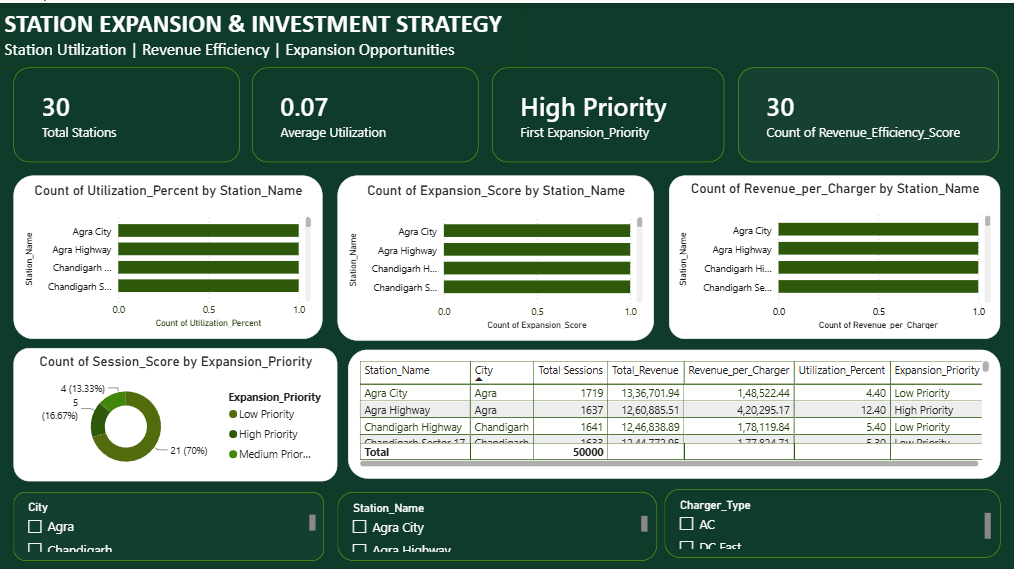

The dashboard page shown, as its layout file describes it:
{"tool":"powerbi","page":{"name":"Expansion Strategy","canvas":[1280,720],"ordinal":4},"visuals":[{"type":"textbox","box":[0,0,661.4,81.3],"z":0},{"type":"cardVisual","fields":{"Data":["ev_charging_sessions_engineered.Total Stations"]},"box":[17,81.3,285.4,119.1],"z":1000},{"type":"cardVisual","fields":{"Data":["CountNonNull(station_performance_metrics.Revenue_Efficiency_Score)"]},"box":[929.8,81.3,328.8,119.1],"z":2000},{"type":"cardVisual","fields":{"Data":["Min(station_performance_metrics.Expansion_Priority)"]},"box":[619.8,81.3,292.9,119.1],"z":3000},{"type":"cardVisual","fields":{"Data":["Calendar.Average Utilization"]},"box":[317.5,81.3,285.4,119.1],"z":4000},{"type":"slicer","fields":{"Values":["ev_charging_sessions_engineered.City"]},"box":[17,616.1,391.2,86.9],"z":5000},{"type":"slicer","fields":{"Values":["ev_charging_sessions_engineered.Station_Name"]},"box":[425.2,616.1,402.5,86.9],"z":6000},{"type":"slicer","fields":{"Values":["ev_charging_sessions_engineered.Charger_Type"]},"box":[837.2,612.3,423.3,86.9],"z":7000},{"type":"clusteredBarChart","fields":{"Category":["station_performance_metrics.Station_Name"],"Y":["CountNonNull(station_performance_metrics.Expansion_Score)"]},"box":[425.2,217.3,398.7,207.9],"z":8000},{"type":"clusteredBarChart","fields":{"Category":["station_performance_metrics.Station_Name"],"Y":["CountNonNull(station_performance_metrics.Utilization_Percent)"]},"box":[17,217.3,389.3,206],"z":9000},{"type":"clusteredBarChart","fields":{"Category":["station_performance_metrics.Station_Name"],"Y":["CountNonNull(station_performance_metrics.Revenue_per_Charger)"]},"box":[842.8,217.3,417.6,206],"z":10000},{"type":"donutChart","fields":{"Category":["station_performance_metrics.Expansion_Priority"],"Y":["CountNonNull(station_performance_metrics.Session_Score)"]},"box":[17,434.6,408.2,168.2],"z":11000},{"type":"tableEx","fields":{"Values":["ev_charging_sessions_engineered.Station_Name","ev_charging_sessions_engineered.City","ev_charging_sessions_engineered.Total Sessions","station_performance_metrics.Total_Revenue","station_performance_metrics.Revenue_per_Charger","station_performance_metrics.Utilization_Percent","station_performance_metrics.Expansion_Priority"]},"box":[438.4,436.5,822.1,162.5],"z":12000}]}

Visuals, with their boxes in screenshot pixels (x1, y1, x2, y2), scaled from the page's 1280x720 canvas onto the 1014x569 screenshot:
textbox: l=0, t=0, r=524, b=64
cardVisual - ev_charging_sessions_engineered.Total Stations: l=13, t=64, r=240, b=158
cardVisual - CountNonNull(station_performance_metrics.Revenue_Efficiency_Score): l=737, t=64, r=997, b=158
cardVisual - Min(station_performance_metrics.Expansion_Priority): l=491, t=64, r=723, b=158
cardVisual - Calendar.Average Utilization: l=252, t=64, r=478, b=158
slicer - ev_charging_sessions_engineered.City: l=13, t=487, r=323, b=556
slicer - ev_charging_sessions_engineered.Station_Name: l=337, t=487, r=656, b=556
slicer - ev_charging_sessions_engineered.Charger_Type: l=663, t=484, r=999, b=553
clusteredBarChart - station_performance_metrics.Station_Name x CountNonNull(station_performance_metrics.Expansion_Score): l=337, t=172, r=653, b=336
clusteredBarChart - station_performance_metrics.Station_Name x CountNonNull(station_performance_metrics.Utilization_Percent): l=13, t=172, r=322, b=335
clusteredBarChart - station_performance_metrics.Station_Name x CountNonNull(station_performance_metrics.Revenue_per_Charger): l=668, t=172, r=998, b=335
donutChart - station_performance_metrics.Expansion_Priority x CountNonNull(station_performance_metrics.Session_Score): l=13, t=343, r=337, b=476
tableEx - ev_charging_sessions_engineered.Station_Name x ev_charging_sessions_engineered.City: l=347, t=345, r=999, b=473
